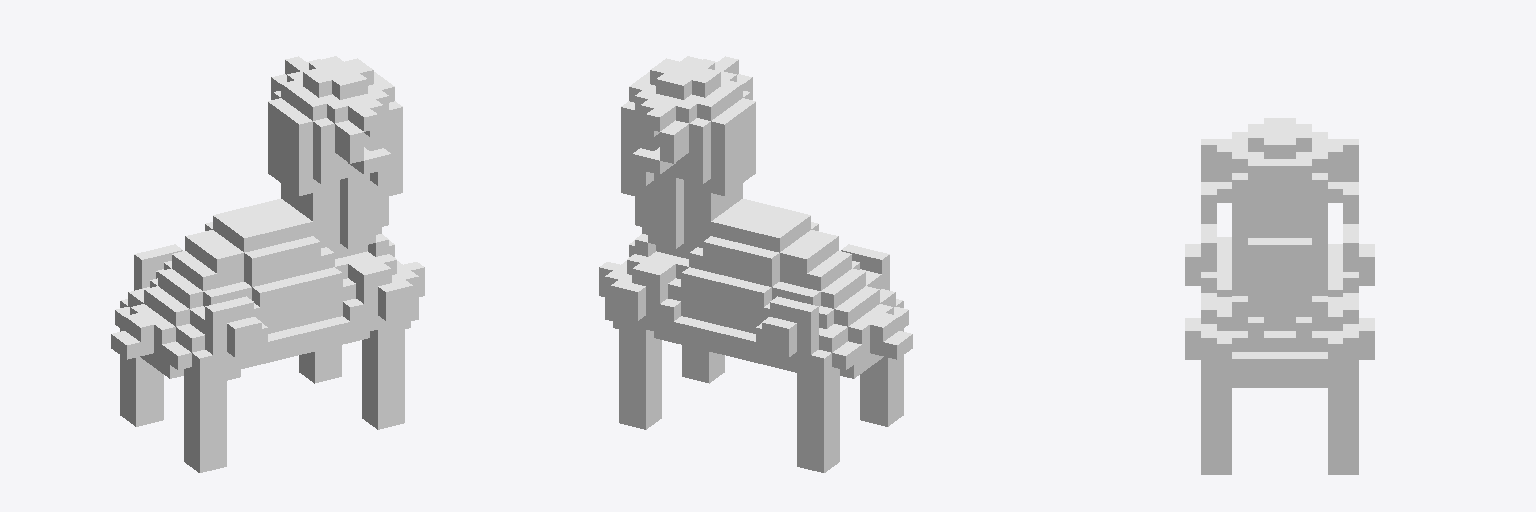
File: npc_centaur.obj
The picture shows the model from 3 angles: view 1: azimuth 30°, elevation 25°; view 2: azimuth 150°, elevation 25°; view 3: azimuth 270°, elevation 25°; orthographic projection.
Visible parts, largest first — view 1: object 1; view 2: object 1; view 3: object 1.
Boxes of the visible parts, x1,y1,x2,y2 form: object 1: [111, 56, 424, 472]; object 1: [599, 56, 912, 472]; object 1: [1185, 118, 1374, 474].
Bounding box in the file's own units: 2 × 2.3 × 1.2.